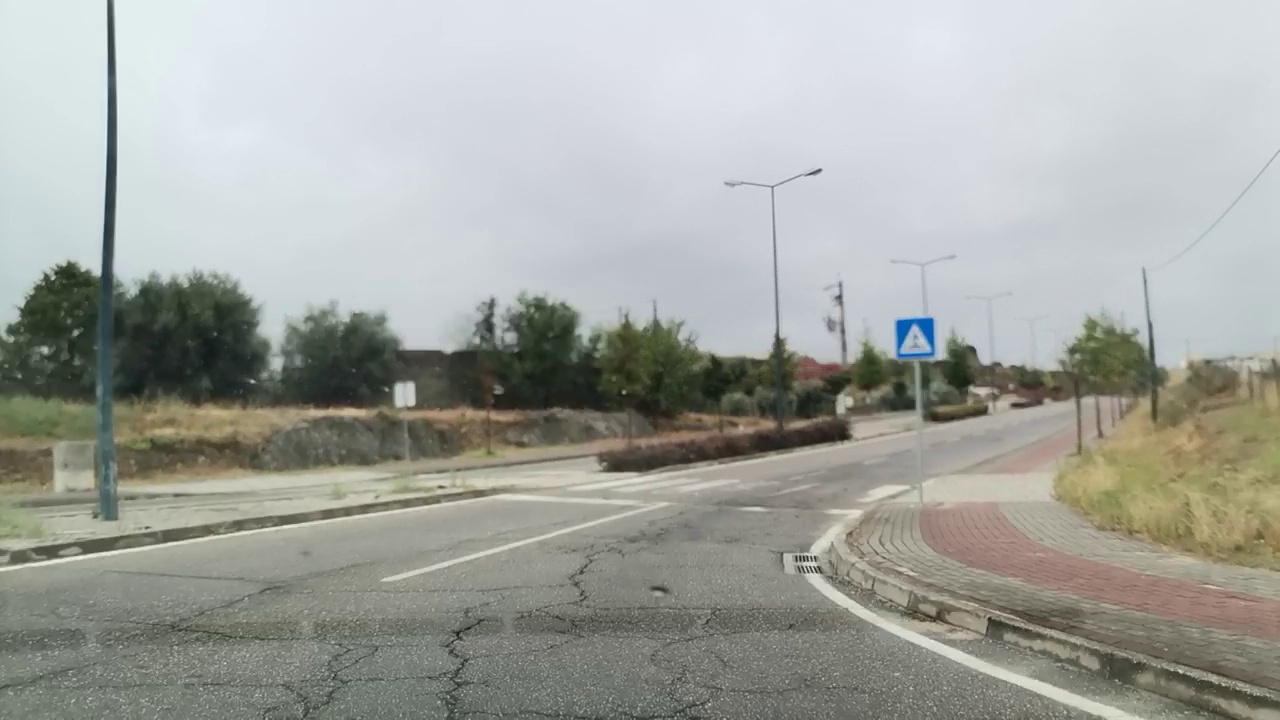Stairs: (520, 477, 912, 499)
